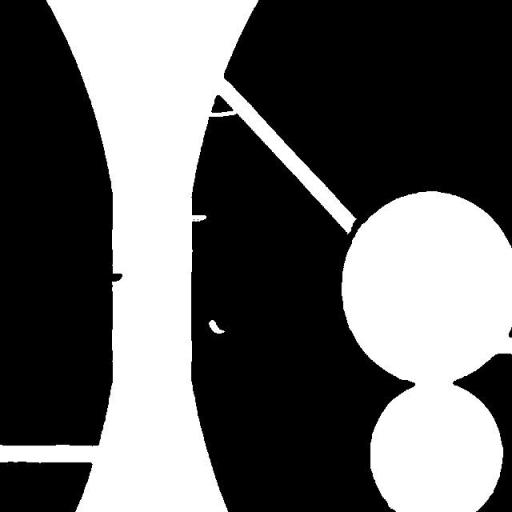mousebite: (180, 207, 214, 229)
open: (198, 102, 244, 124)
pin-hole: (201, 312, 232, 341)
short: (337, 208, 373, 250)
spur: (100, 264, 130, 289)
